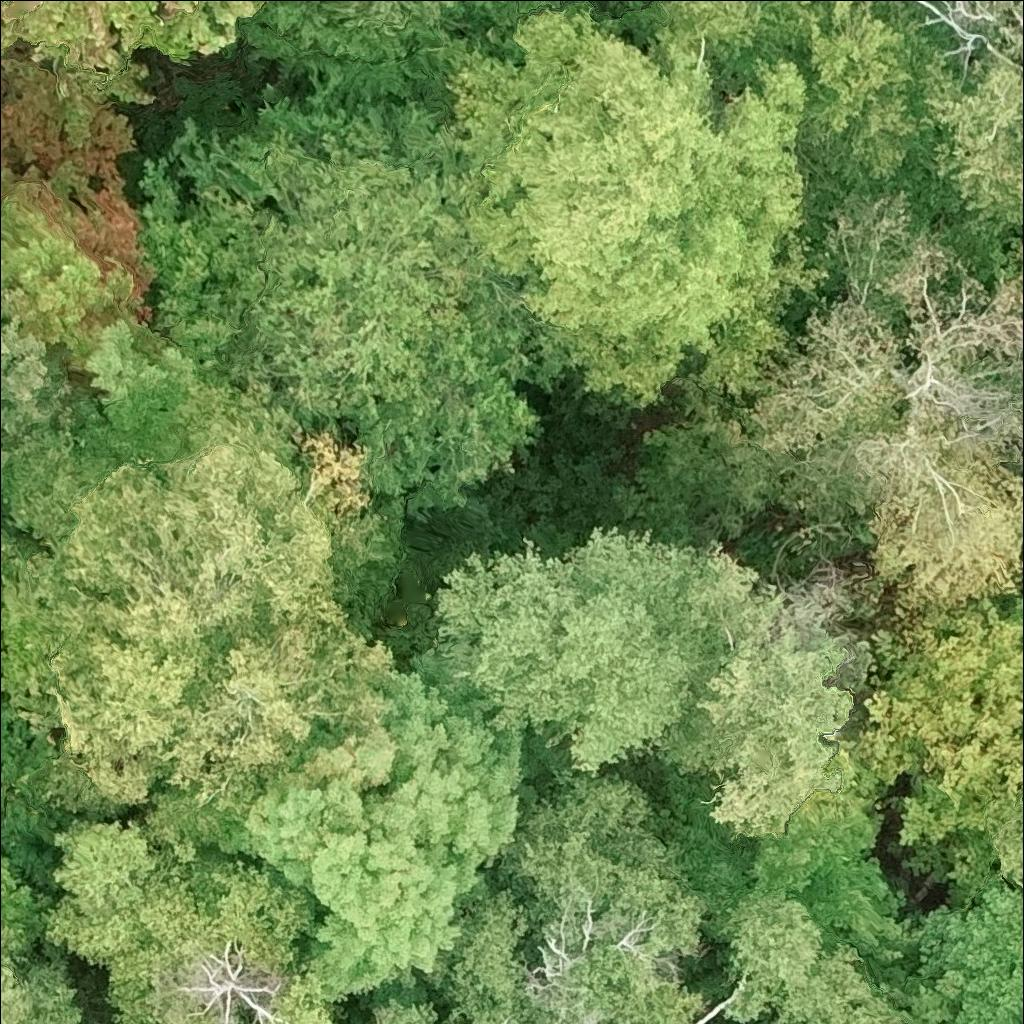crown: (137, 43, 547, 517), (0, 367, 397, 840), (639, 178, 1023, 617), (450, 0, 833, 409), (200, 649, 547, 1009), (426, 523, 727, 775), (594, 0, 927, 191), (646, 549, 854, 839), (37, 808, 304, 1023), (482, 764, 712, 958), (0, 0, 274, 140), (238, 0, 567, 109), (717, 890, 906, 1023), (922, 0, 1023, 248), (432, 868, 563, 1023), (899, 882, 1023, 1023), (0, 852, 85, 1023), (581, 946, 699, 1023), (263, 959, 342, 1023), (365, 996, 443, 1023), (0, 752, 16, 820), (192, 1010, 235, 1023), (1015, 598, 1023, 611)
